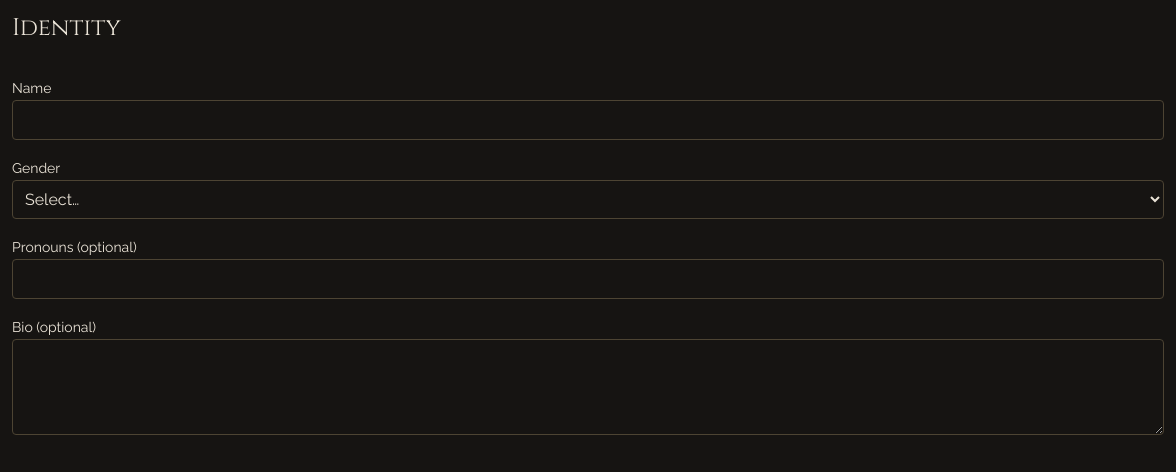
Test: shows error when name is cleared after typing
The width and height of the screenshot is (1176, 472).
Type "x" into the field labelled "Name" at {"x": 588, "y": 120}, box [12,100,1164,140]
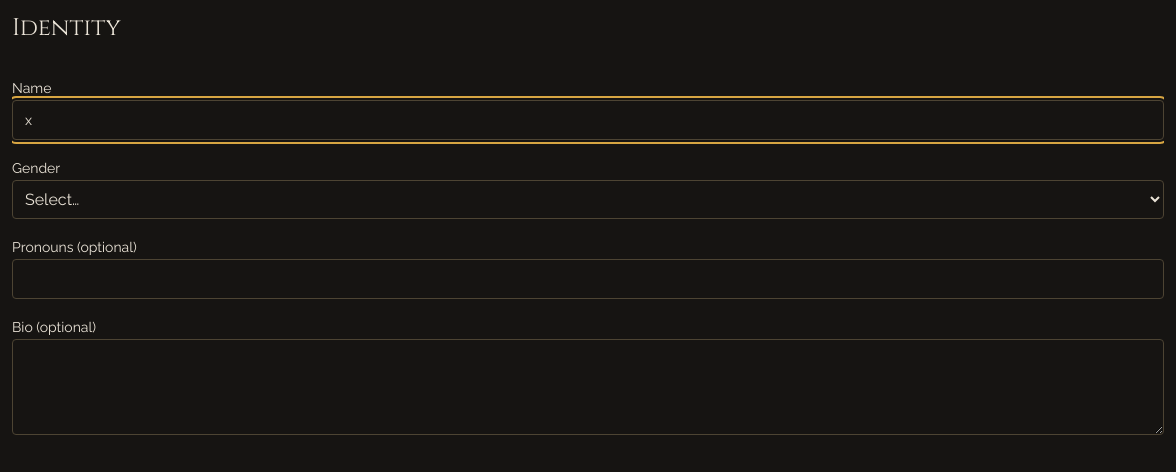
Clear the field labelled "Name" at {"x": 588, "y": 120}, box [12,100,1164,140]
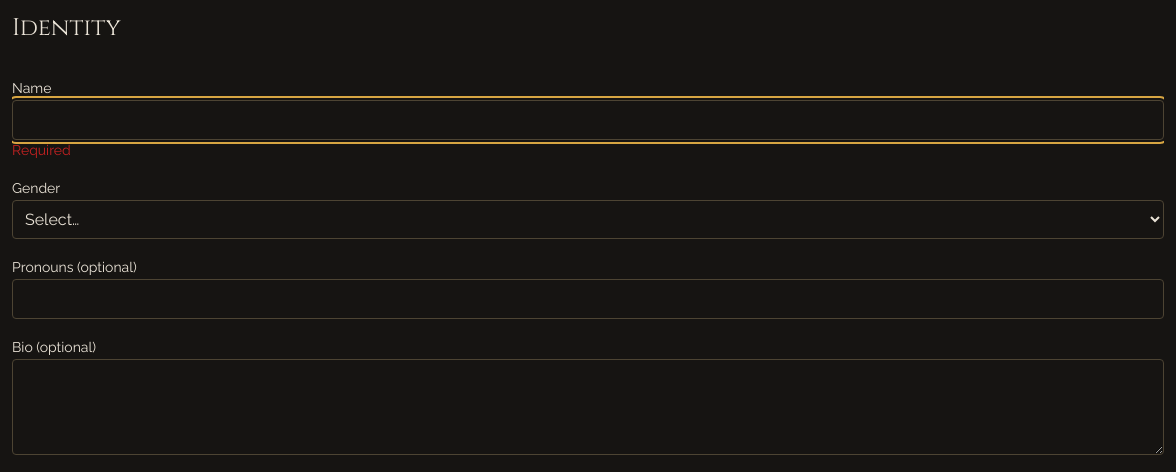
Expected: the text "Required" is shown, [12,142,71,158]
